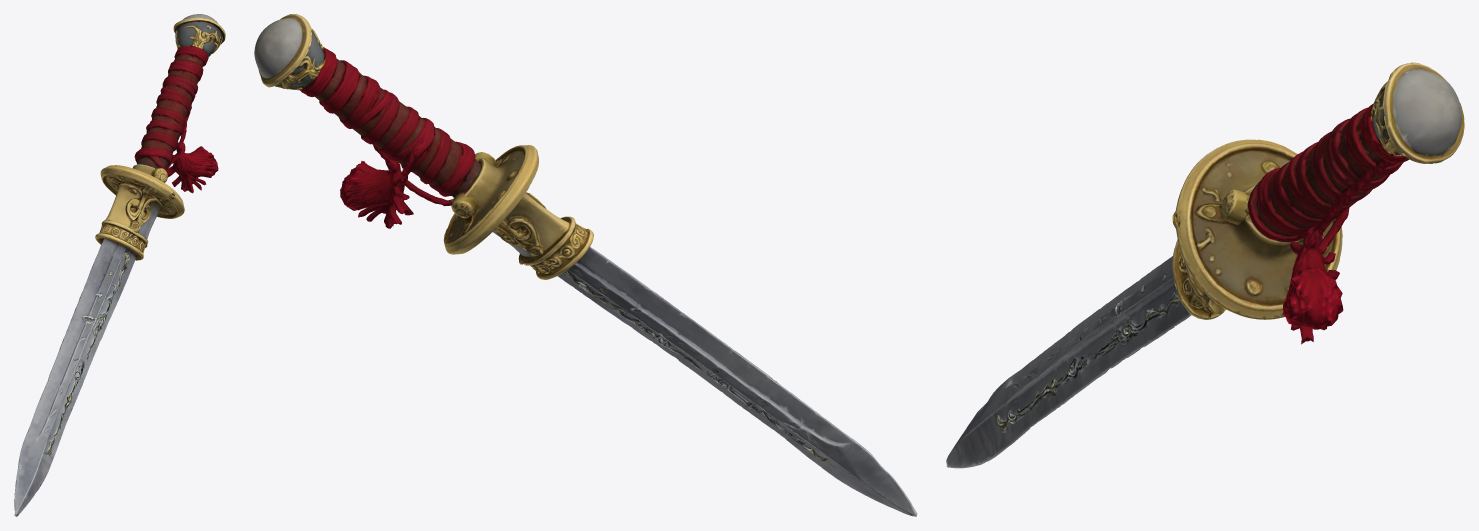
The model's file is fw-metal-2.glb.
3 renders of one model, left to right at view 1: azimuth 30°, elevation 25°; view 2: azimuth 150°, elevation 25°; view 3: azimuth 270°, elevation 25°, orthographic. The views are drawn at different scales.
Parts seen in each view (by area): view 1: tripo_node_2f112dab-d7b8-45c6-978d-e8b081fa5308; view 2: tripo_node_2f112dab-d7b8-45c6-978d-e8b081fa5308; view 3: tripo_node_2f112dab-d7b8-45c6-978d-e8b081fa5308.
Boxes of the visible parts, x1,y1,x2,y2 form: tripo_node_2f112dab-d7b8-45c6-978d-e8b081fa5308: [14, 14, 225, 516]; tripo_node_2f112dab-d7b8-45c6-978d-e8b081fa5308: [254, 14, 917, 516]; tripo_node_2f112dab-d7b8-45c6-978d-e8b081fa5308: [946, 62, 1464, 468].
Bounding box in the file's own units: 0.9621 × 0.98 × 0.6688.
Materials: 1 (1 with a texture image).
